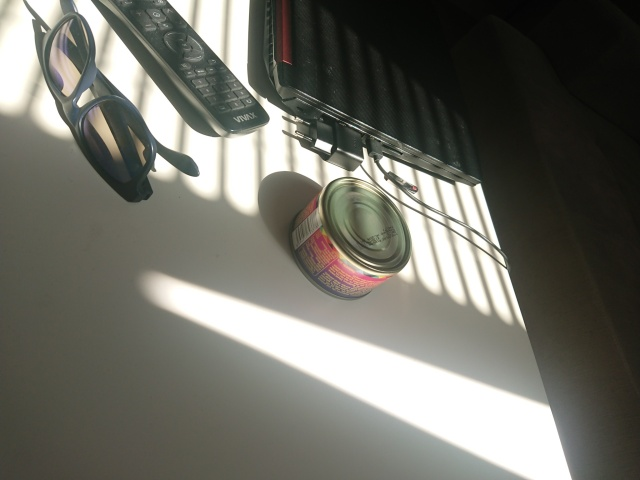Giana Tuna Salad Mexico 185g: (286, 174, 416, 303)
